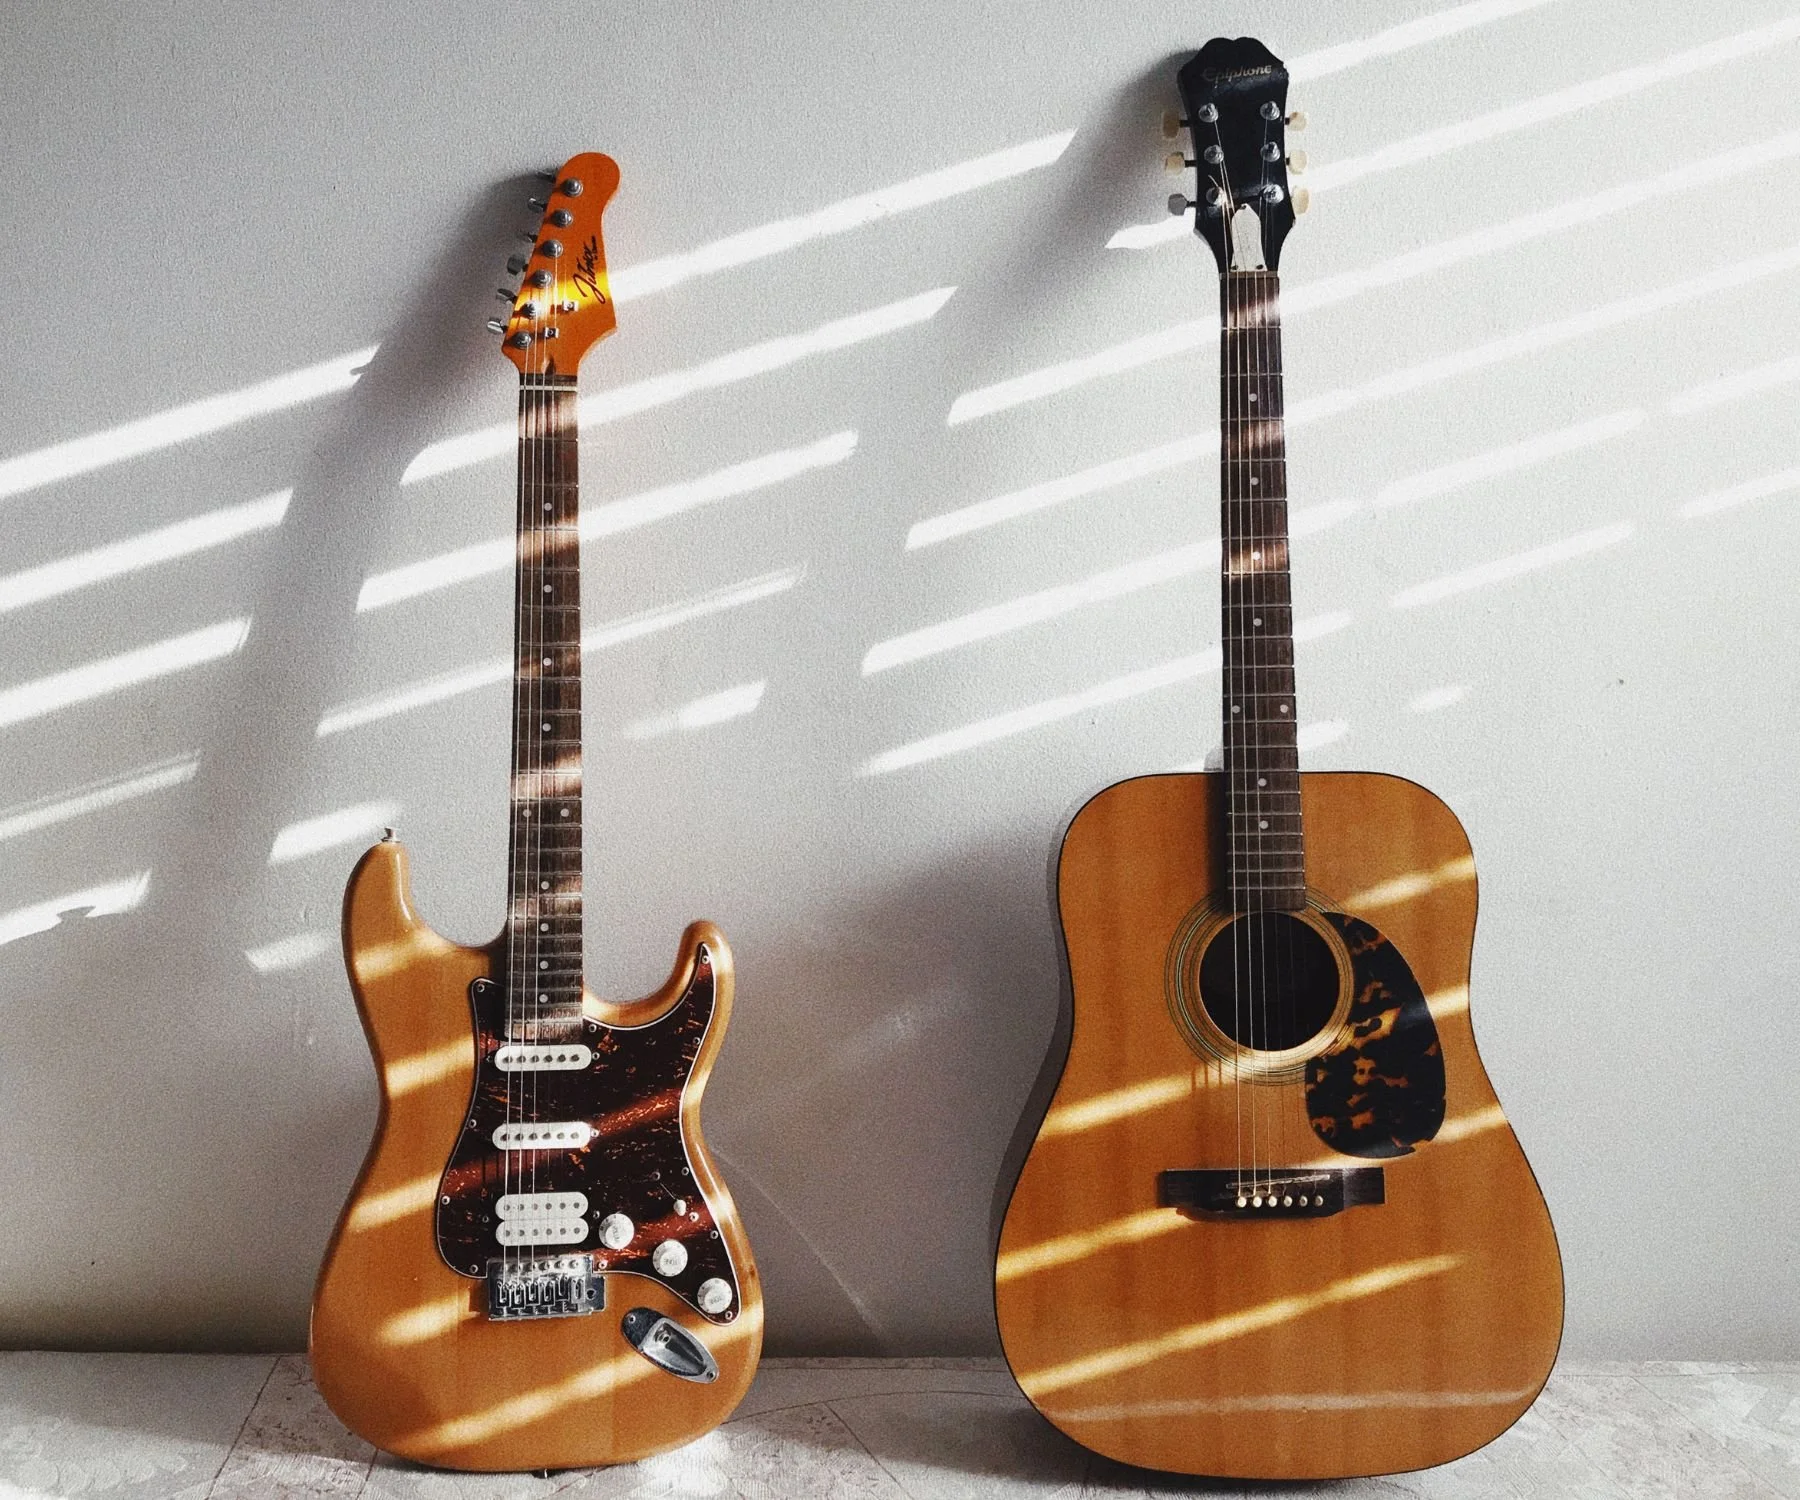guitar: (991, 31, 1567, 1482), (300, 138, 768, 1482)
